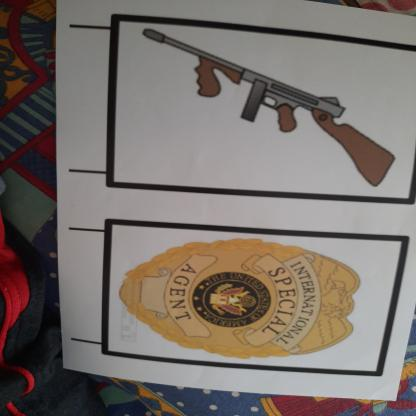Bootlegger: (132, 24, 416, 194)
G-man: (106, 234, 390, 373)
